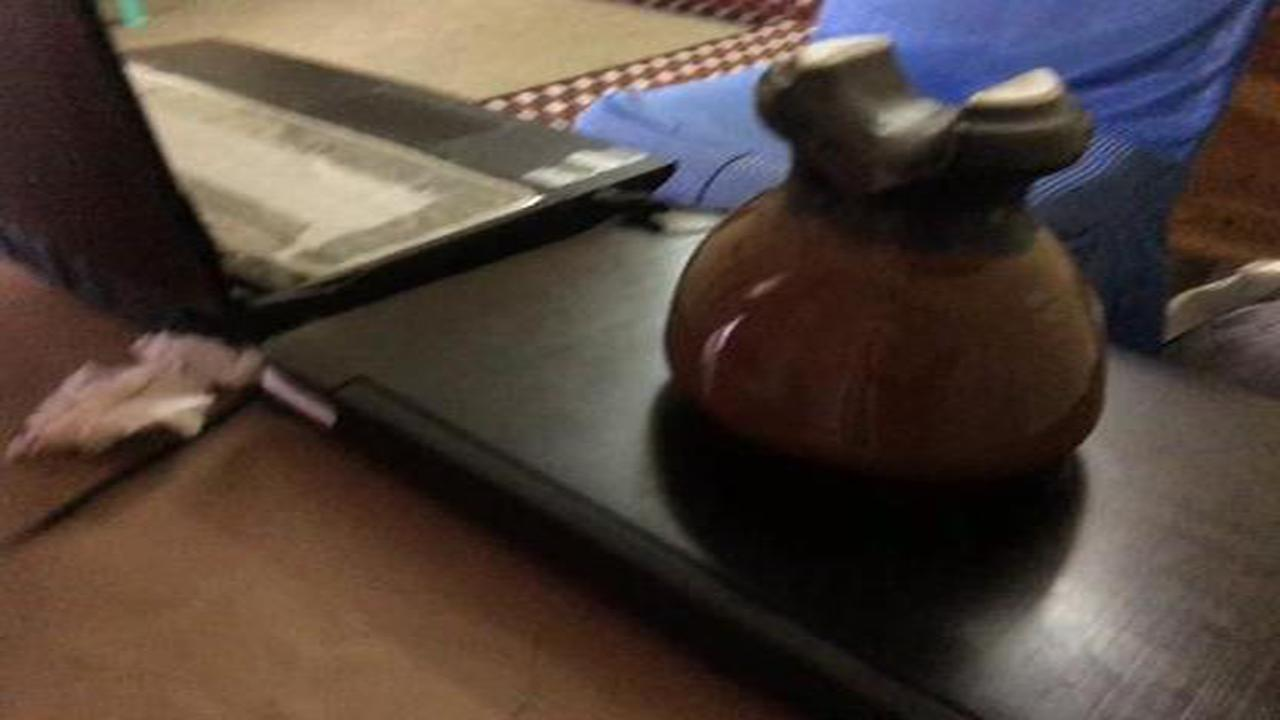insulator_pin: (650, 24, 1121, 487)
